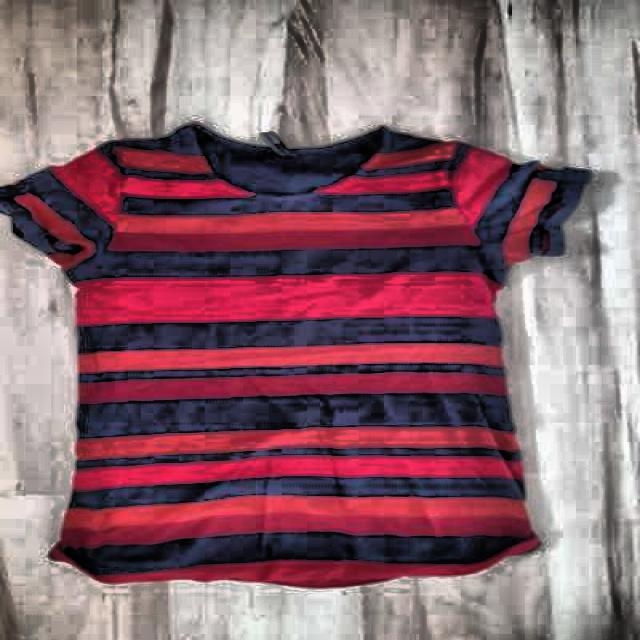clothes: (0, 115, 594, 592)
